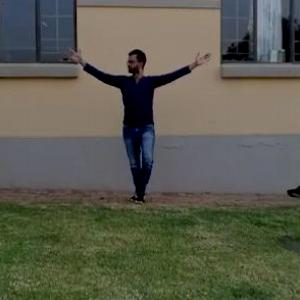takeoff: (65, 45, 205, 195)
